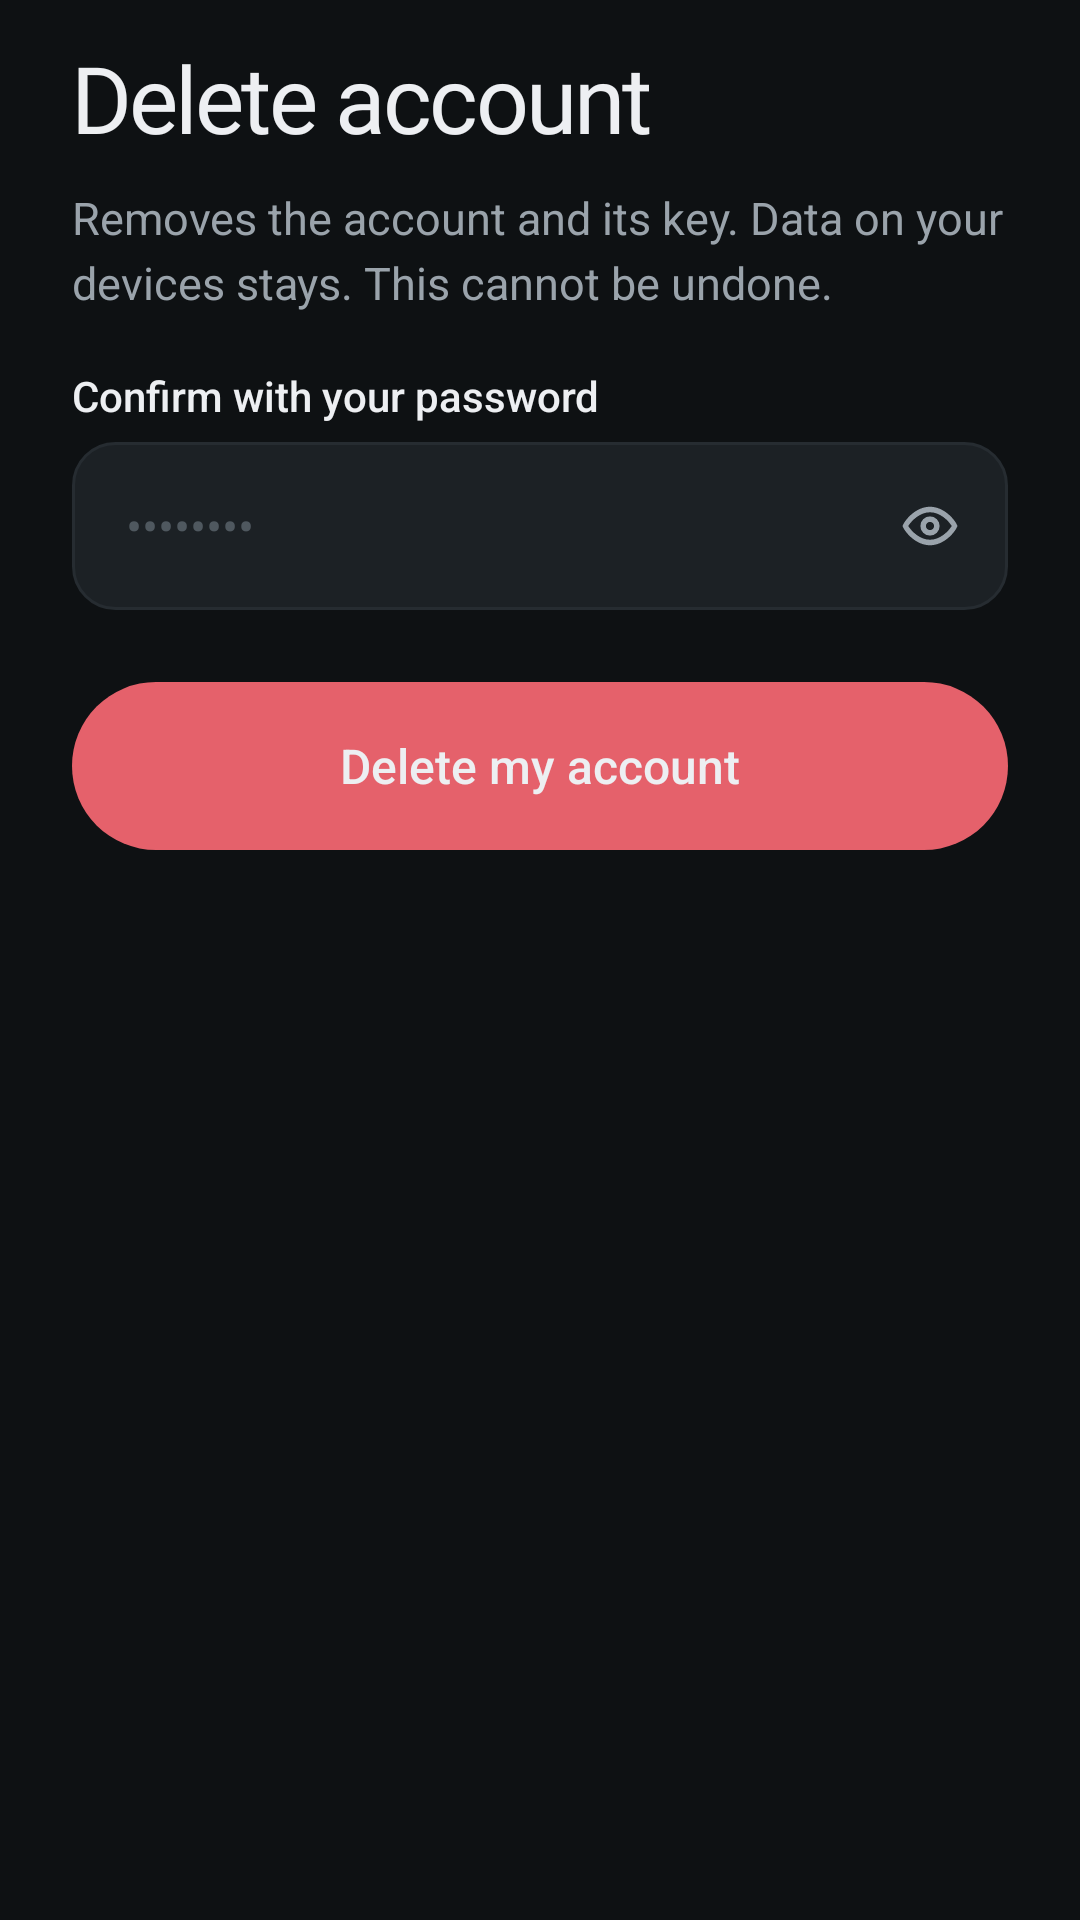

Screen size 1080w x 1920h. Icon name, then its box in pixels as (x1,y1,x2,y2):
Show password: (902,506,958,546)
